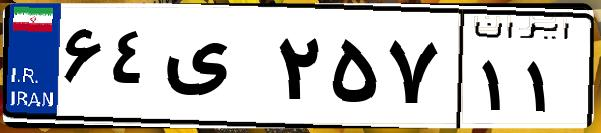1: (475, 38, 525, 113), (525, 38, 570, 115)
2: (270, 28, 330, 110)
4: (110, 28, 158, 98)
5: (330, 28, 385, 110)
6: (57, 26, 110, 100)
7: (385, 28, 445, 110)
ی: (158, 20, 270, 120)
